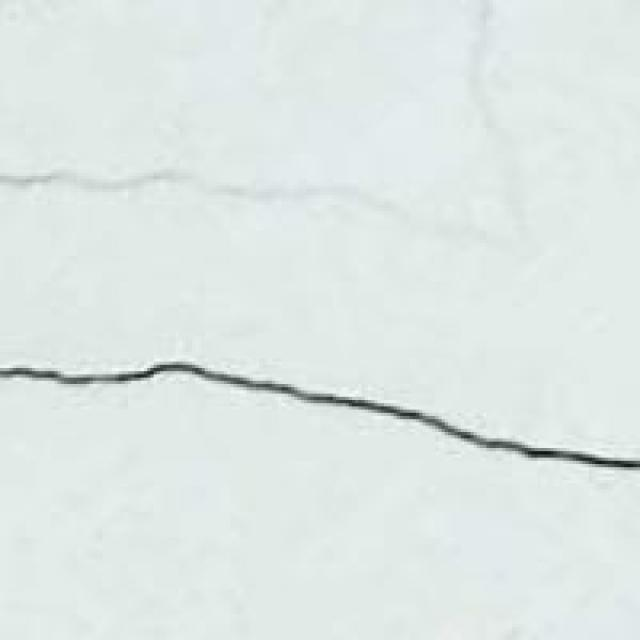crack: (0, 317, 637, 499)
